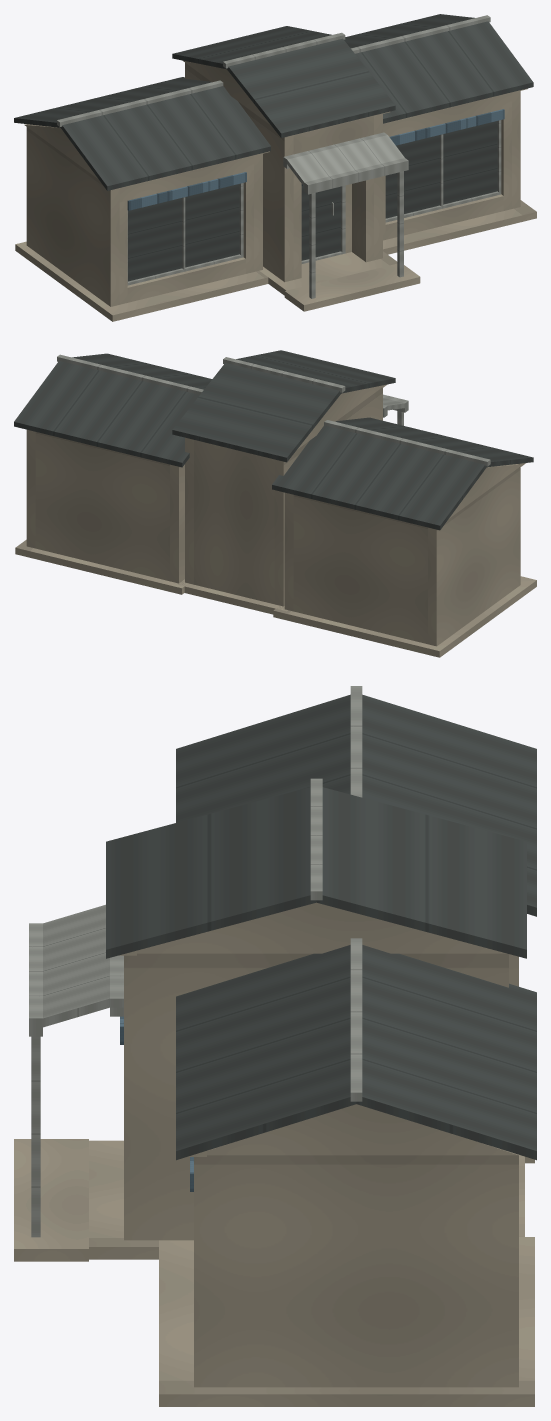
The picture shows the model from 3 angles, top to bottom: view 1: azimuth 30°, elevation 25°; view 2: azimuth 150°, elevation 25°; view 3: azimuth 270°, elevation 25°; orthographic projection. The views are drawn at different scales.
Visible parts, largest first — view 1: moscow; view 2: moscow; view 3: moscow.
Boxes of the visible parts, bbox=[...] form: moscow: bbox=[14, 14, 536, 321]; moscow: bbox=[14, 350, 536, 657]; moscow: bbox=[14, 686, 536, 1406].
Size of the model in its own units: 8.6 by 3.67 by 4.68.
1 material, 1 textured.
